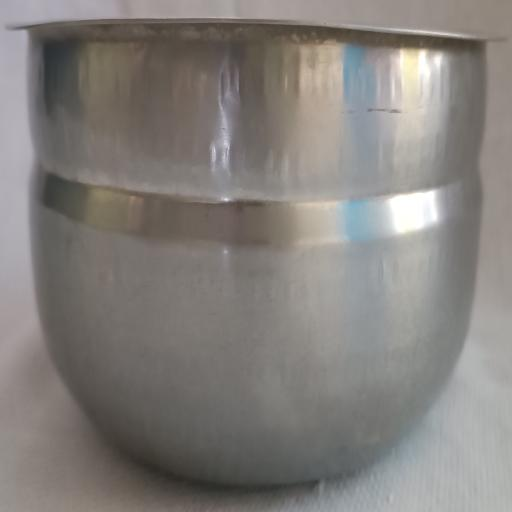vessel: (14, 19, 498, 485)
